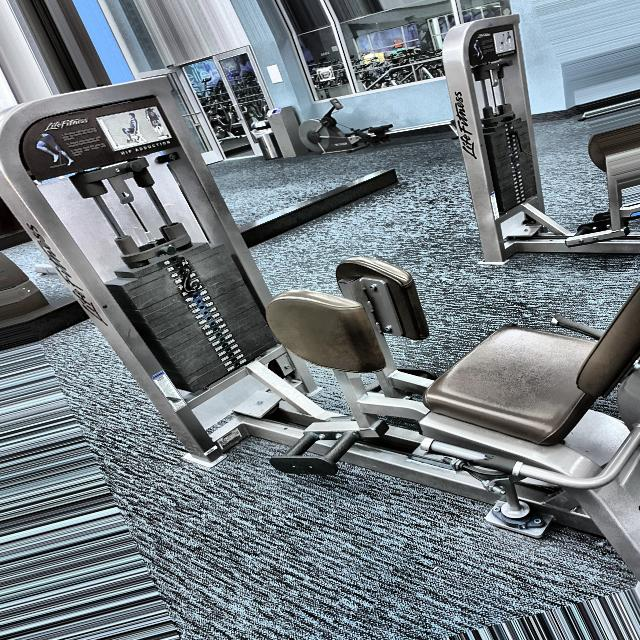hip_adduction_machine: (256, 196, 640, 562), (279, 212, 466, 505), (38, 106, 190, 171), (113, 139, 179, 156)
